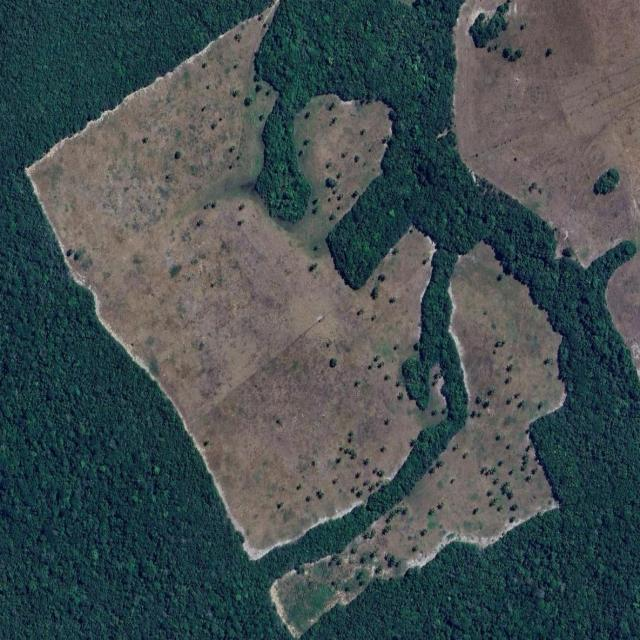noVegetation: (29, 9, 442, 556), (274, 243, 564, 632)
vegetation: (256, 0, 640, 637), (0, 2, 289, 638), (314, 511, 564, 637)
